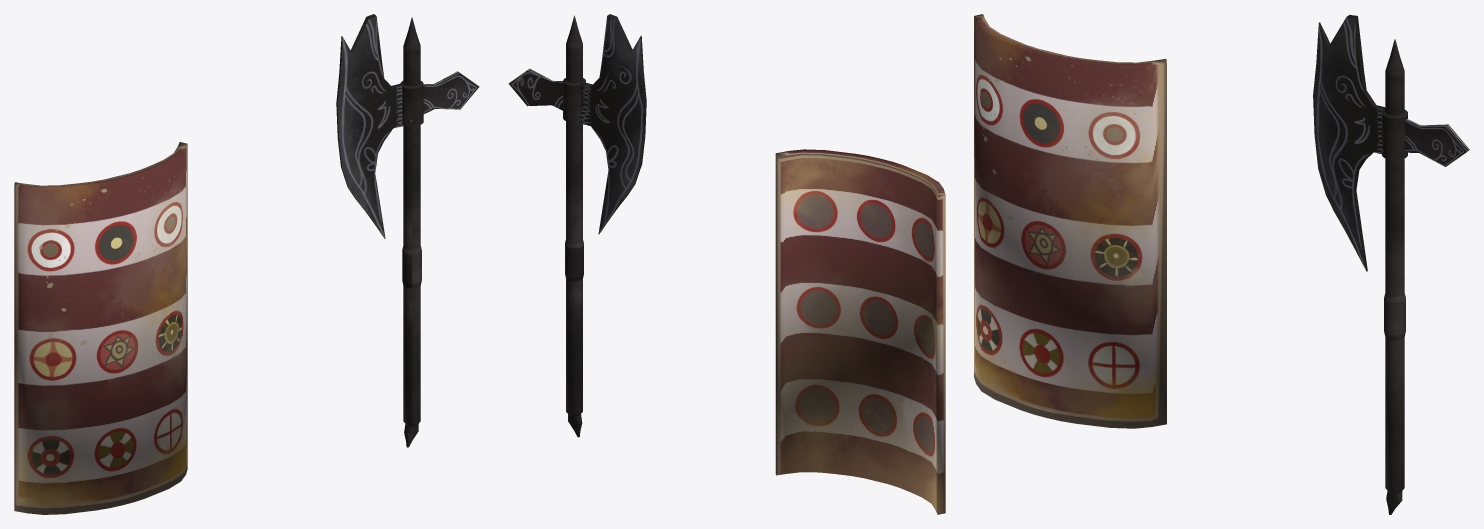
The model's file is hache_shield.fbx.
3 renders of one model, left to right at view 1: azimuth 30°, elevation 25°; view 2: azimuth 150°, elevation 25°; view 3: azimuth 330°, elevation 25°, orthographic. The views are drawn at different scales.
Parts seen in each view (by area): view 1: Shield, Hache; view 2: Shield, Hache; view 3: Shield, Hache.
Boxes of the visible parts, x1,y1,x2,y2 form: Shield: (14, 142, 187, 514); Hache: (336, 14, 479, 447); Shield: (775, 149, 945, 514); Hache: (508, 14, 646, 437); Shield: (974, 14, 1166, 428); Hache: (1313, 15, 1469, 514).
Bounding box in the file's own units: 59.84 × 55.25 × 5.72.
1 material, 1 textured.
